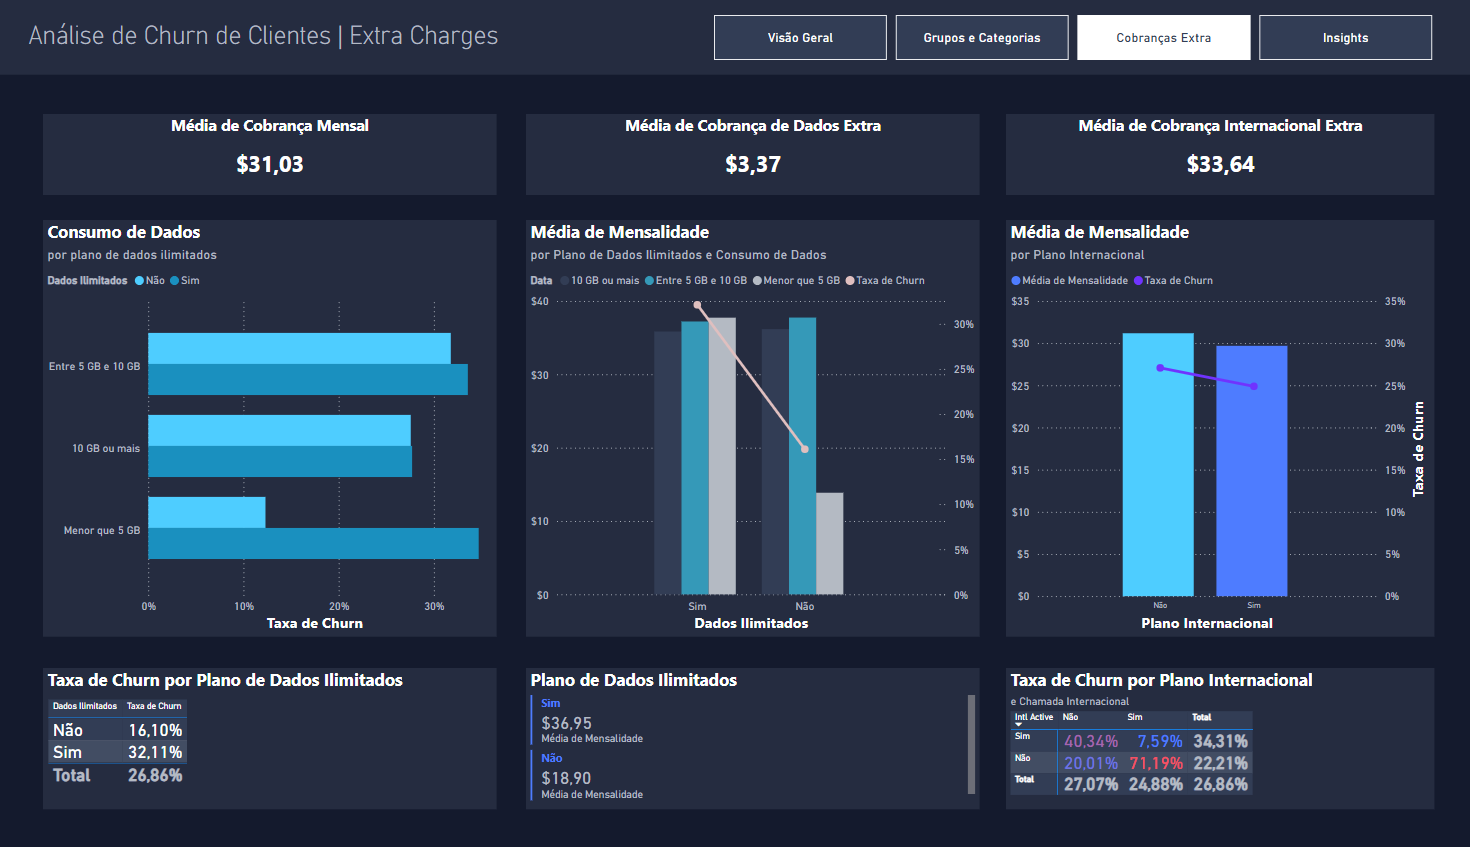

The page's visual inventory and layout, read from the dashboard file:
{"tool":"powerbi","page":{"name":"Cobranças Extra","canvas":[1640,960],"ordinal":2},"visuals":[{"type":"clusteredBarChart","title":"Consumo de Dados","fields":{"Category":["Databel - Data.Grouped Consumption"],"Y":["_Measures.Churn Rate"],"Series":["Databel - Data.Unlimited Data Plan"]},"box":[50,244.4,504.2,462.5],"z":0},{"type":"card","title":"Média de Cobrança Internacional Extra","fields":{"Values":["Avg(Databel - Data.Extra International Charges)"]},"box":[1119.4,126.4,476.4,90.3],"z":1000},{"type":"card","title":"Média de Cobrança de Dados Extra","fields":{"Values":["Avg(Databel - Data.Extra Data Charges)"]},"box":[586.1,126.4,504.2,90.3],"z":2000},{"type":"shape","box":[0,0,1640.2,83.1],"z":3000},{"type":"textbox","box":[28.6,17.1,618.6,57.1],"z":4000},{"type":"tableEx","title":"Taxa de Churn por Plano de Dados Ilimitados","fields":{"Values":["Databel - Data.Unlimited Data Plan","_Measures.Churn Rate"]},"box":[50,741.7,504.2,156.9],"z":5000},{"type":"pivotTable","title":"Taxa de Churn por Plano Internacional","fields":{"Rows":["Databel - Data.Intl Active"],"Columns":["Databel - Data.Intl Plan"],"Values":["_Measures.Churn Rate"]},"box":[1119.4,741.7,476.4,156.9],"z":6000},{"type":"multiRowCard","title":"Plano de Dados Ilimitados","fields":{"Values":["Avg(Databel - Data.Monthly Charge)","Databel - Data.Unlimited Data Plan"]},"box":[586.1,741.7,504.2,156.9],"z":7000},{"type":"lineClusteredColumnComboChart","title":"Média de Mensalidade","fields":{"Category":["Databel - Data.Unlimited Data Plan"],"Y2":["_Measures.Churn Rate"],"Y":["Avg(Databel - Data.Monthly Charge)"],"Series":["telecom_data.Grouped Consumption"]},"box":[586.1,244.4,504.2,462.5],"z":8000},{"type":"card","title":"Média de Cobrança Mensal","fields":{"Values":["Avg(Databel - Data.Monthly Charge)"]},"box":[50,126.4,504.2,90.3],"z":9000},{"type":"lineClusteredColumnComboChart","title":"Média de Mensalidade","fields":{"Y":["Avg(Databel - Data.Monthly Charge)"],"Category":["Databel - Data.Intl Plan"],"Y2":["_Measures.Churn Rate"]},"box":[1119.4,244.4,476.4,462.5],"z":10000},{"type":"pageNavigator","box":[795.8,16.7,800,50],"z":11000}]}

Visuals, with their boxes in screenshot pixels (x1, y1, x2, y2), scaled from the page's 1640x960 canvas onto the 1470x847 screenshot:
"Consumo de Dados" clusteredBarChart: crop(45, 216, 497, 624)
"Média de Cobrança Internacional Extra" card: crop(1003, 112, 1430, 191)
"Média de Cobrança de Dados Extra" card: crop(525, 112, 977, 191)
shape: crop(0, 0, 1469, 73)
textbox: crop(26, 15, 580, 65)
"Taxa de Churn por Plano de Dados Ilimitados" tableEx: crop(45, 654, 497, 793)
"Taxa de Churn por Plano Internacional" pivotTable: crop(1003, 654, 1430, 793)
"Plano de Dados Ilimitados" multiRowCard: crop(525, 654, 977, 793)
"Média de Mensalidade" lineClusteredColumnComboChart: crop(525, 216, 977, 624)
"Média de Cobrança Mensal" card: crop(45, 112, 497, 191)
"Média de Mensalidade" lineClusteredColumnComboChart: crop(1003, 216, 1430, 624)
pageNavigator: crop(713, 15, 1430, 59)
